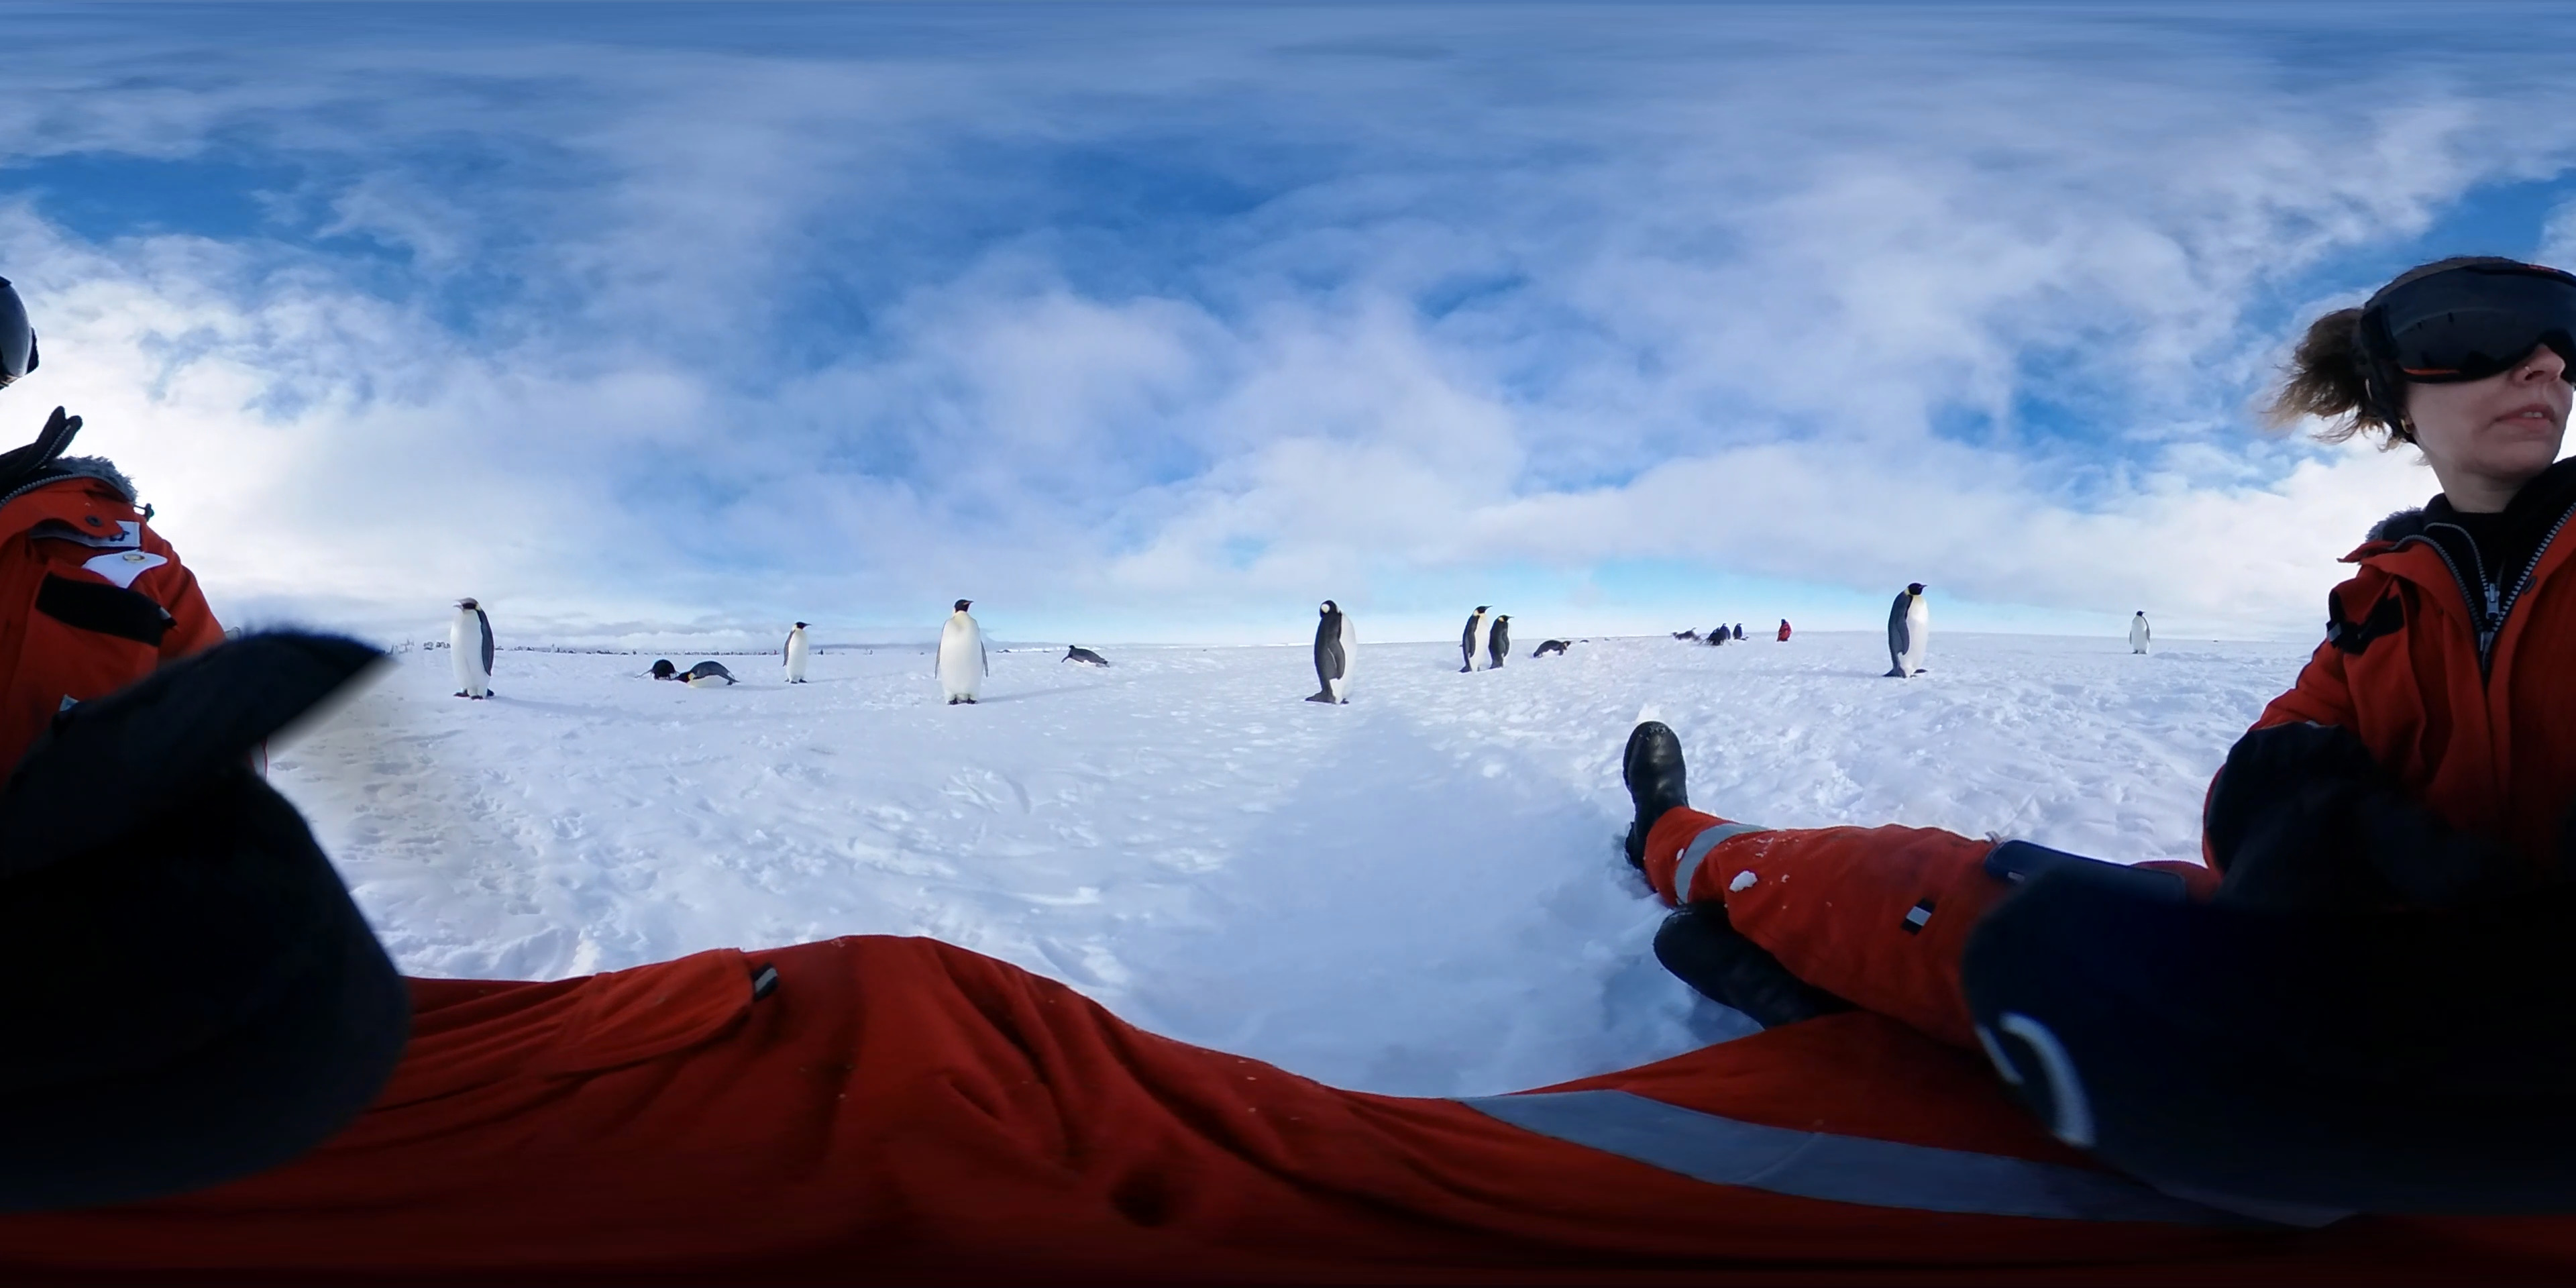adult_standing_penguin: (442, 593, 501, 706), (938, 595, 994, 705), (1306, 598, 1355, 706), (1883, 578, 1932, 680), (1456, 603, 1493, 670), (780, 619, 816, 688), (1487, 611, 1511, 669), (2129, 609, 2152, 659), (1733, 621, 1745, 646)
adult_toboggan_penguin: (674, 657, 739, 690), (634, 655, 683, 685), (1060, 644, 1112, 670), (1533, 637, 1572, 659), (1667, 629, 1700, 644)
researcher: (1613, 238, 2576, 1288), (0, 250, 442, 1267), (1773, 618, 1791, 644)
